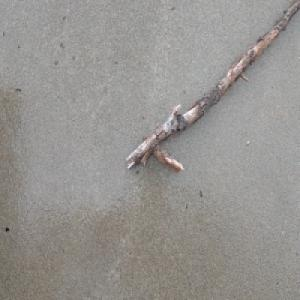Wood: (125, 0, 300, 176)
